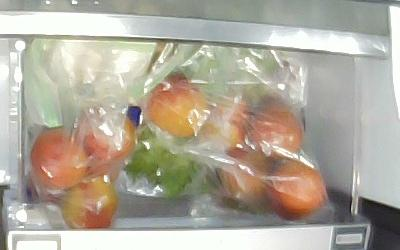prune_vinyl: (70, 105, 135, 169), (210, 147, 273, 212), (148, 72, 206, 139), (267, 156, 327, 218), (31, 129, 87, 189), (246, 104, 303, 161), (59, 178, 118, 228)
